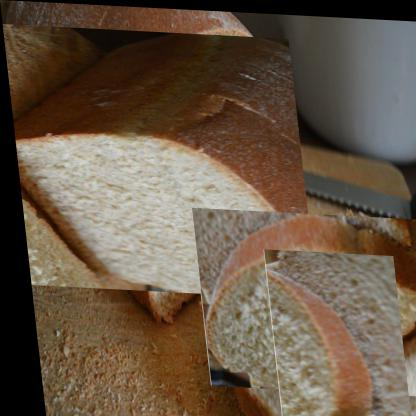bread: (186, 204, 415, 395), (235, 268, 415, 415)
bread_loaf: (1, 12, 301, 310)
